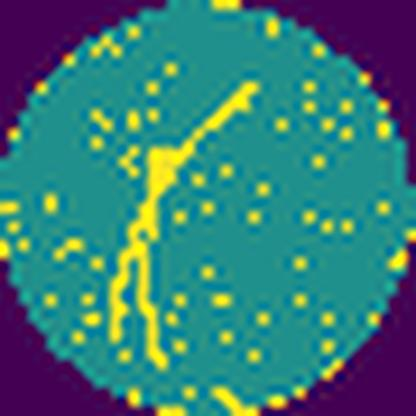Scratch: (106, 77, 264, 375)
